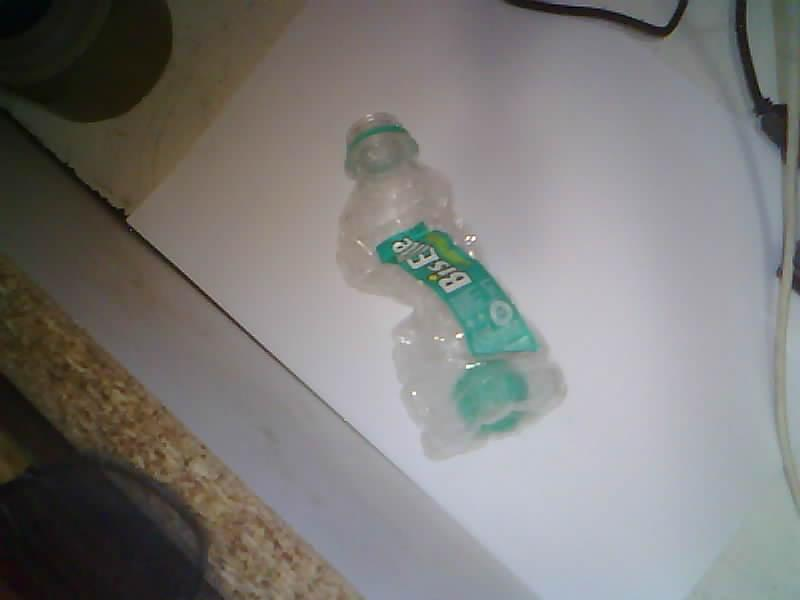non-biodegradable: (337, 113, 565, 458)
